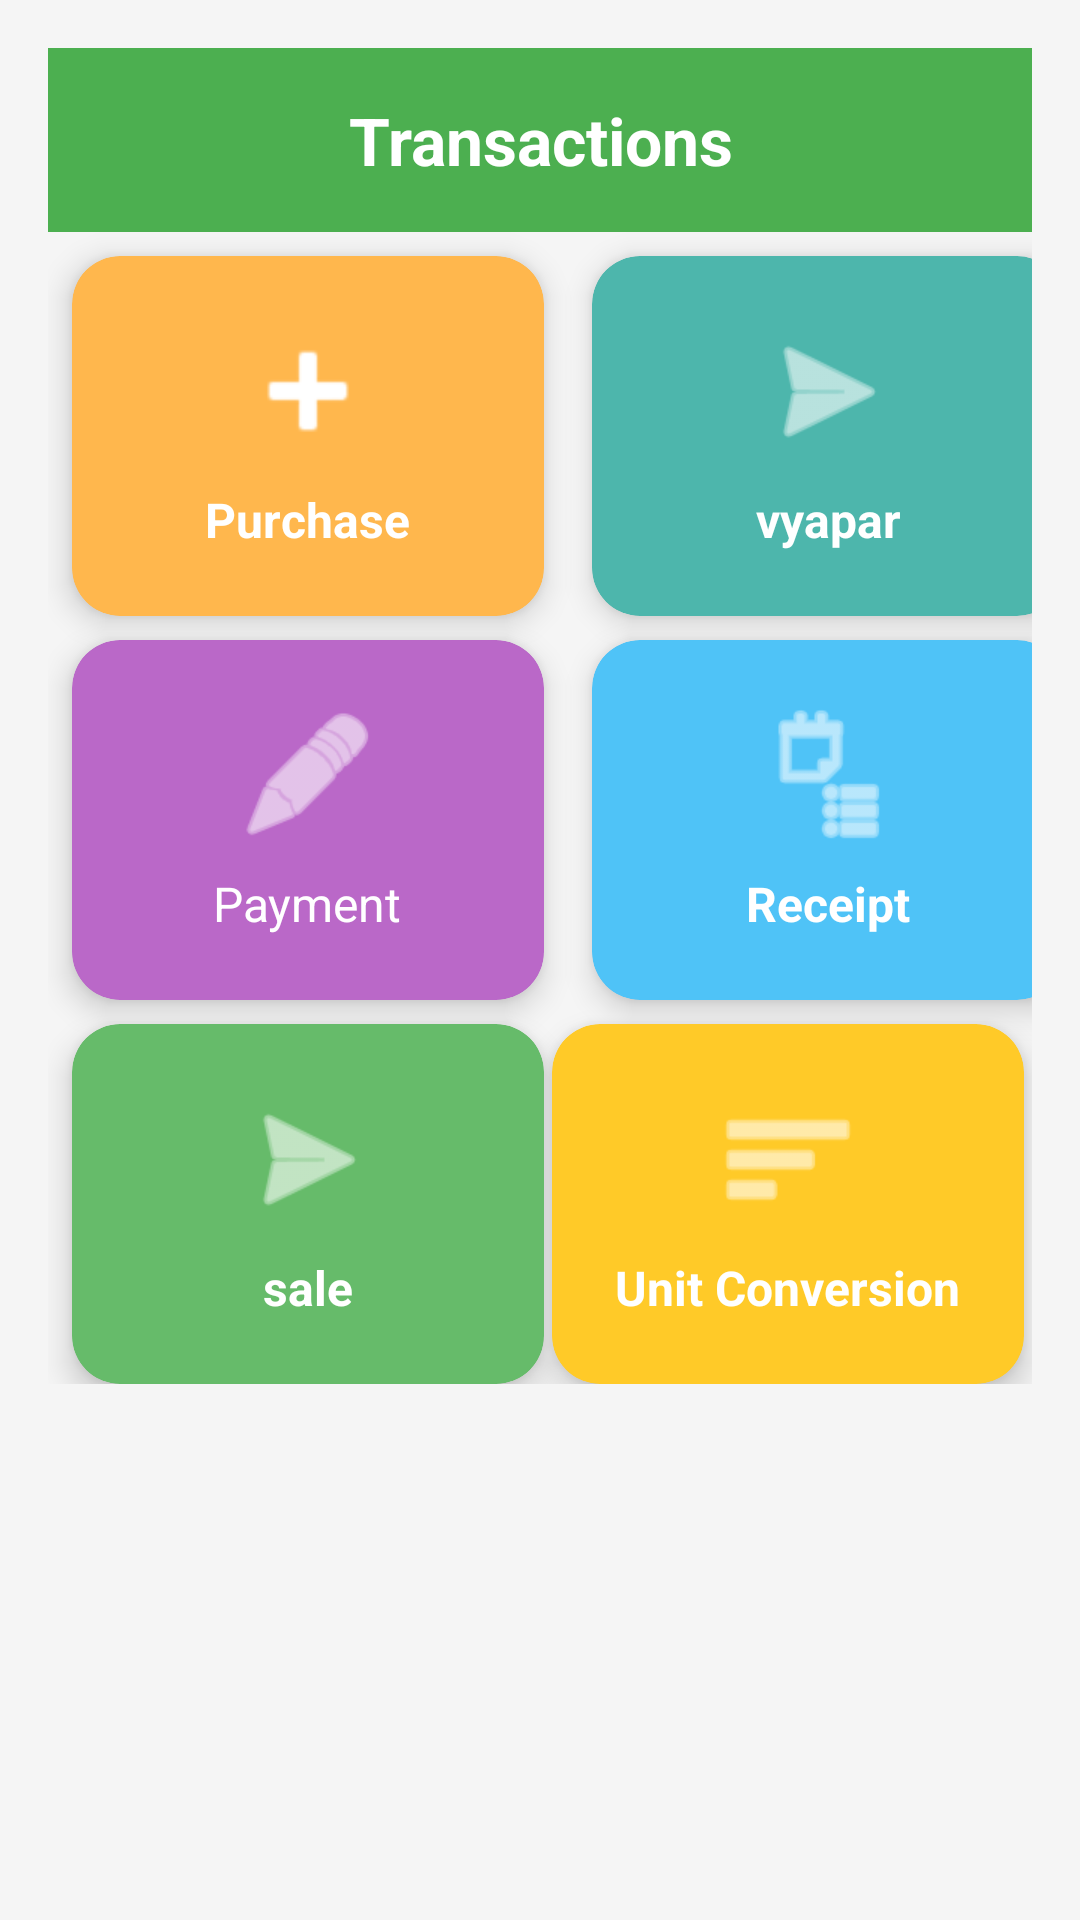

Named icons in this screenshot (1080px×1920px) and their bounding boxes, bbox=(x1, y1, x2, y2):
add: bbox=(267, 350, 349, 432)
agenda: bbox=(778, 710, 879, 838)
edit: bbox=(247, 713, 368, 835)
send: bbox=(783, 346, 875, 437), bbox=(263, 1115, 355, 1205)
sort by size: bbox=(726, 1119, 850, 1200)
